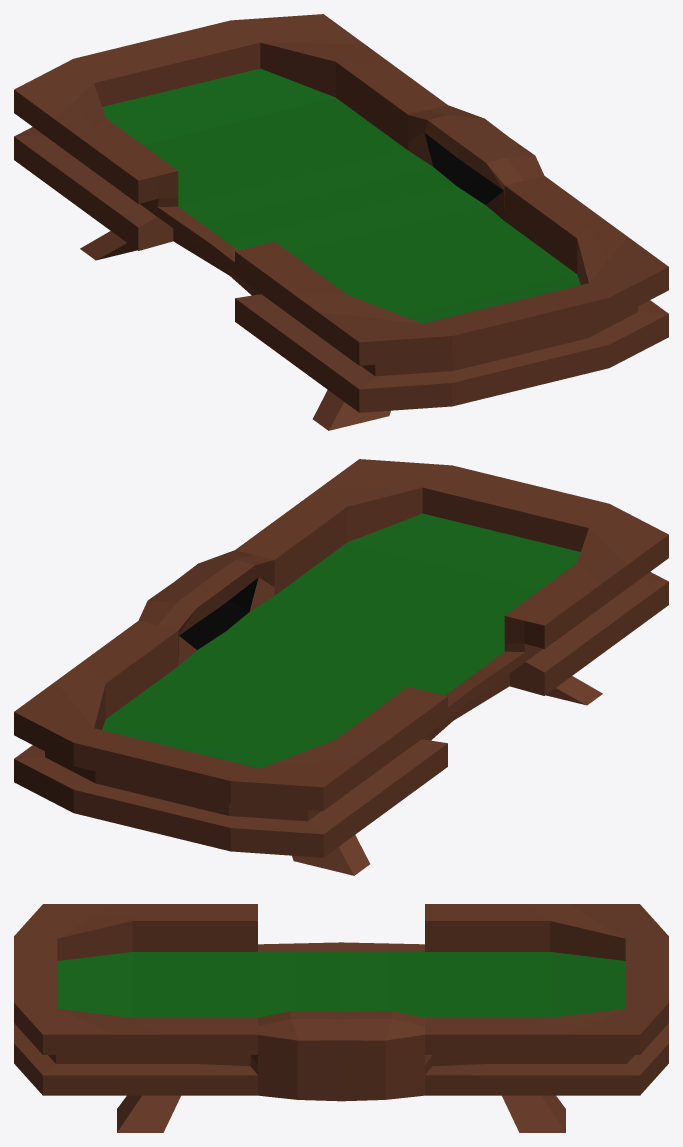
File: CrapsTable.fbx
3 renders of one model, top to bottom at view 1: azimuth 30°, elevation 25°; view 2: azimuth 150°, elevation 25°; view 3: azimuth 270°, elevation 25°, orthographic. The views are drawn at different scales.
Visible parts, largest first — view 1: CrapsTable; view 2: CrapsTable; view 3: CrapsTable.
Boxes of the visible parts, x1,y1,x2,y2 form: CrapsTable: (14, 14, 668, 430); CrapsTable: (14, 459, 668, 875); CrapsTable: (14, 904, 668, 1132).
Bounding box in the file's own units: 550 × 223 × 1115.
